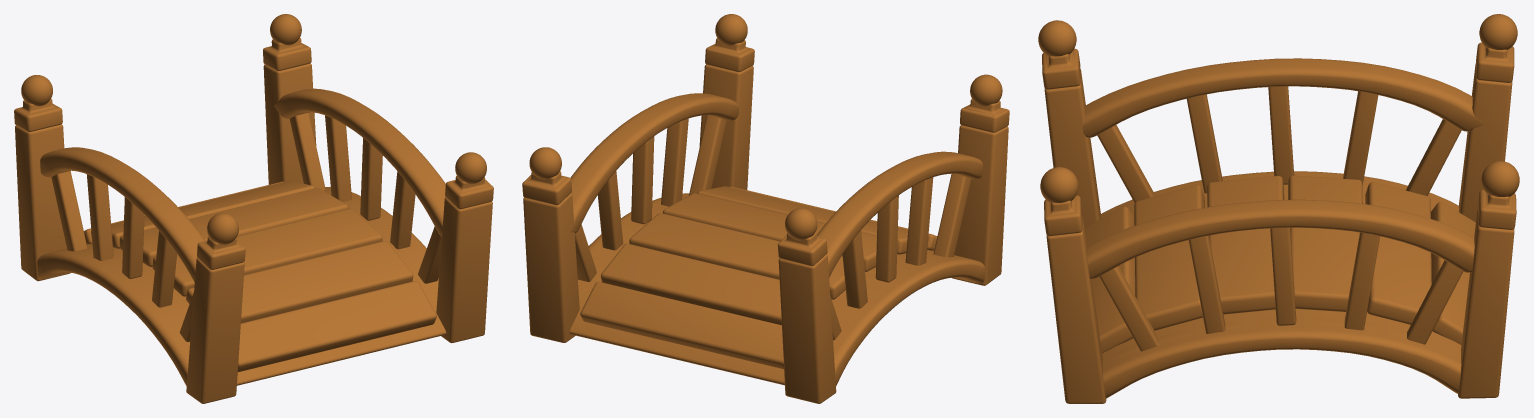
Rendered from bridge1.fbx.
3 views of the same model, side by side, from view 1: azimuth 30°, elevation 25°; view 2: azimuth 150°, elevation 25°; view 3: azimuth 270°, elevation 25° (orthographic). The views are drawn at different scales.
Parts seen in each view (by area): view 1: Cylinder.001, Cube.002, Cube, Cylinder.004, Cylinder.003, Cube.003, Cube.004, Cube.001, Sphere, Sphere.001; view 2: Cylinder.001, Cube.002, Cube.003, Cylinder.004, Cylinder.003, Cube, Cube.001, Cube.004, Sphere.001, Sphere; view 3: Cylinder.001, Cylinder.004, Cube.002, Cylinder.003, Cube, Cube.003, Cube.004, Cube.001, Sphere, Sphere.001.
Part boxes in pixels (<box>): Cylinder.001: <box>84,181,436,372</box>; Cube.002: <box>51,112,441,341</box>; Cube: <box>186,197,492,403</box>; Cylinder.004: <box>40,88,445,281</box>; Cylinder.003: <box>37,187,446,385</box>; Cube.003: <box>15,63,316,281</box>; Cube.004: <box>14,38,311,131</box>; Cube.001: <box>197,176,493,269</box>; Sphere: <box>207,152,486,244</box>; Sphere.001: <box>21,14,301,106</box>; Cylinder.001: <box>580,186,937,368</box>; Cube.002: <box>575,115,971,340</box>; Cube.003: <box>523,193,836,403</box>; Cylinder.004: <box>570,93,982,277</box>; Cylinder.003: <box>569,193,985,385</box>; Cube: <box>699,64,1008,285</box>; Cube.001: <box>705,38,1009,132</box>; Cube.004: <box>522,171,827,266</box>; Sphere.001: <box>529,147,817,240</box>; Sphere: <box>715,14,1002,106</box>; Cylinder.001: <box>1084,175,1475,353</box>; Cylinder.004: <box>1082,58,1484,278</box>; Cube.002: <box>1097,86,1463,351</box>; Cylinder.003: <box>1100,171,1461,398</box>; Cube: <box>1044,69,1106,403</box>; Cube.003: <box>1458,63,1514,398</box>; Cube.004: <box>1476,42,1516,229</box>; Cube.001: <box>1042,48,1082,236</box>; Sphere: <box>1038,20,1078,202</box>; Sphere.001: <box>1479,14,1519,196</box>.
Size of the model in its own units: 389 by 251 by 472.
